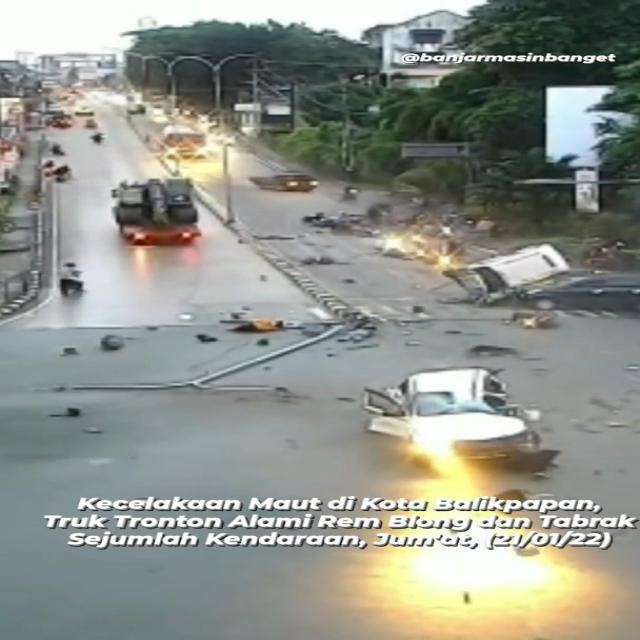accident: (339, 357, 608, 487), (371, 225, 640, 314)
